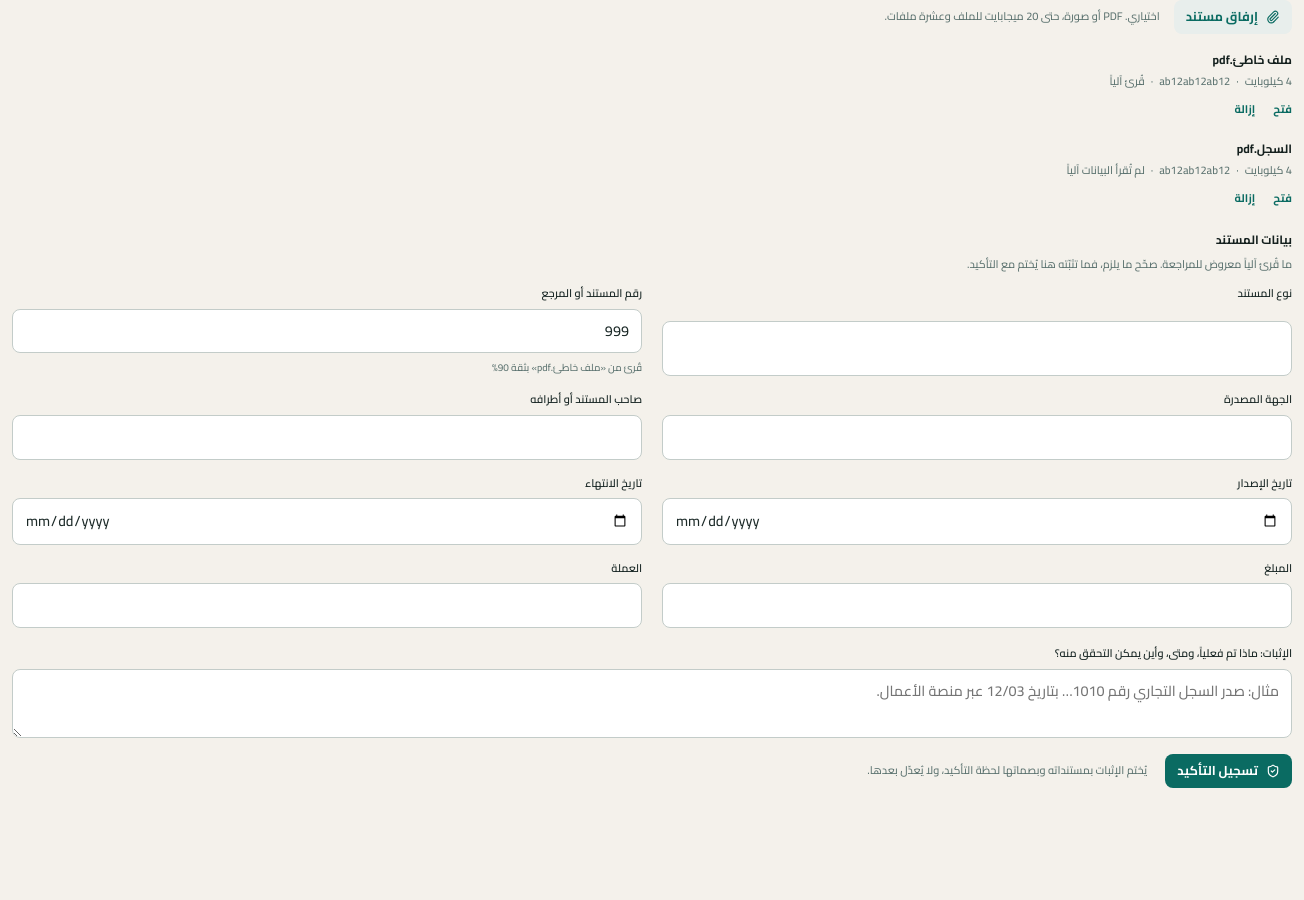
ExecutionProofForm › takes a wrongly attached document out before confirming, with what was read from it
Expected: the field labelled "رقم المستند أو المرجع" holds "999", x1=12 y1=309 x2=642 y2=354
Click the button with aria-label "إزالة ملف خاطئ.pdf" at (1245, 109), box x1=1234 y1=93 x2=1255 y2=125
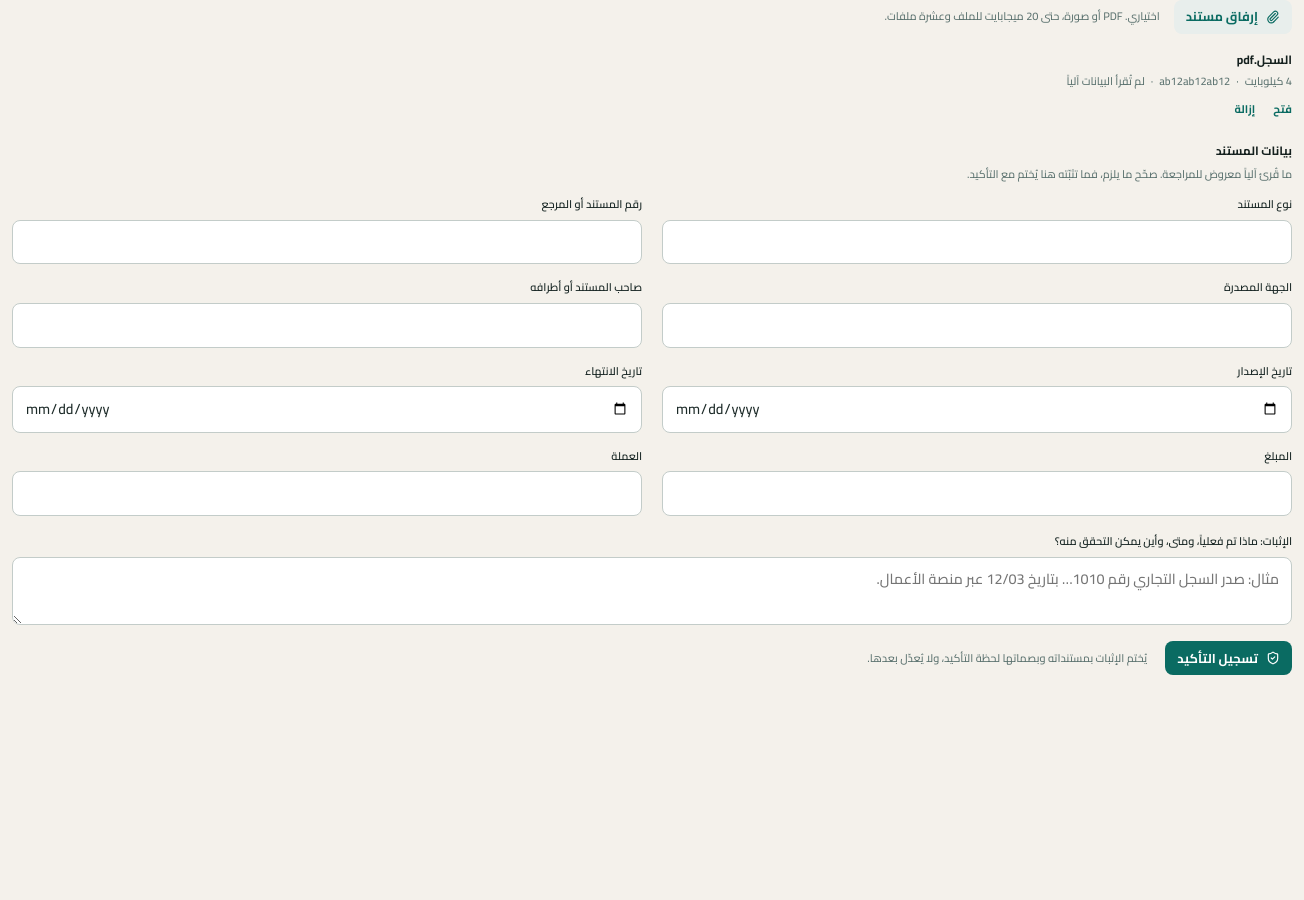
Expected: the text "السجل.pdf" is shown, x1=1237 y1=48 x2=1292 y2=71
Expected: the text "ملف خاطئ.pdf" is gone
